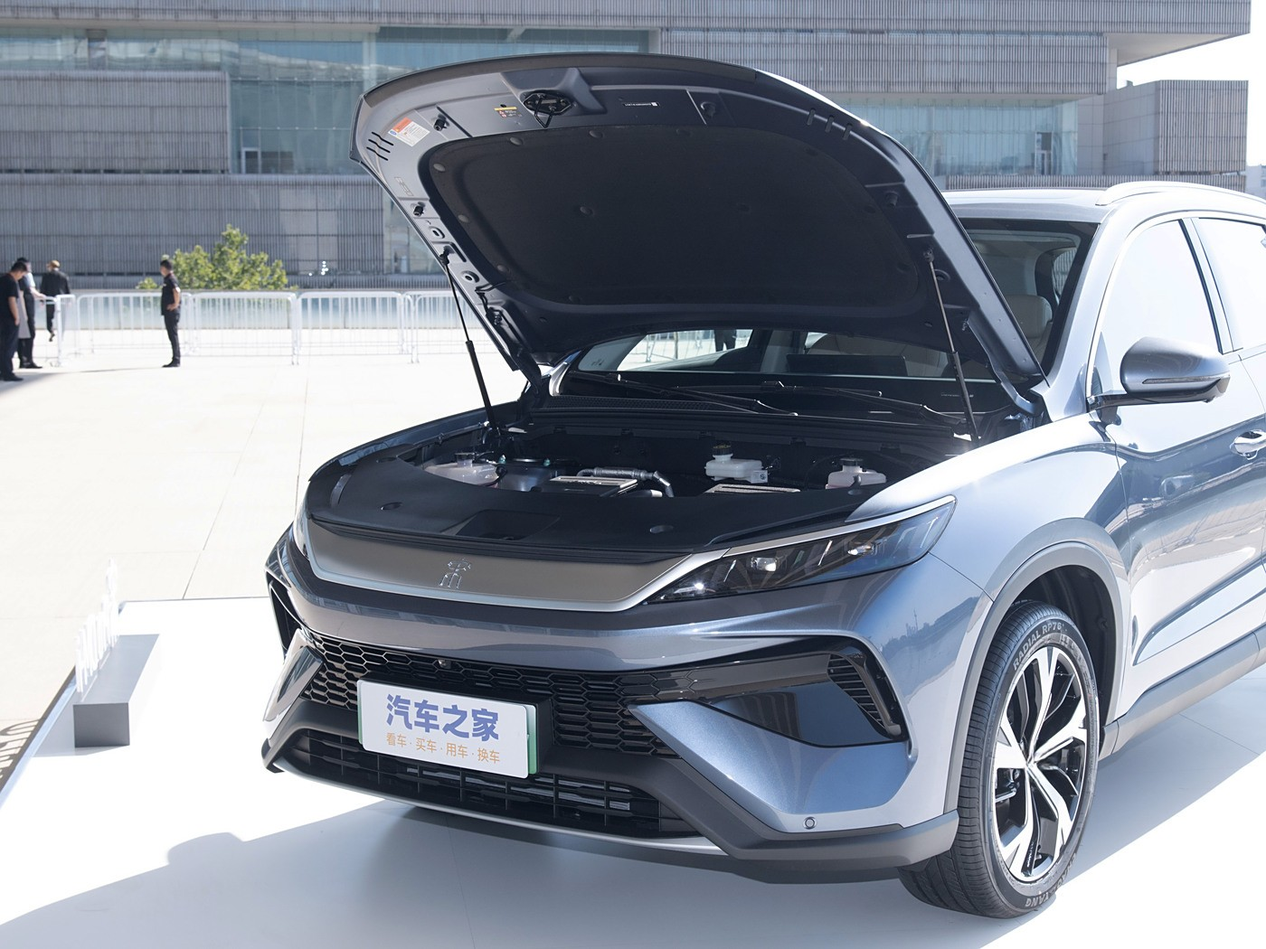BYD Song: (439, 557, 471, 587)
